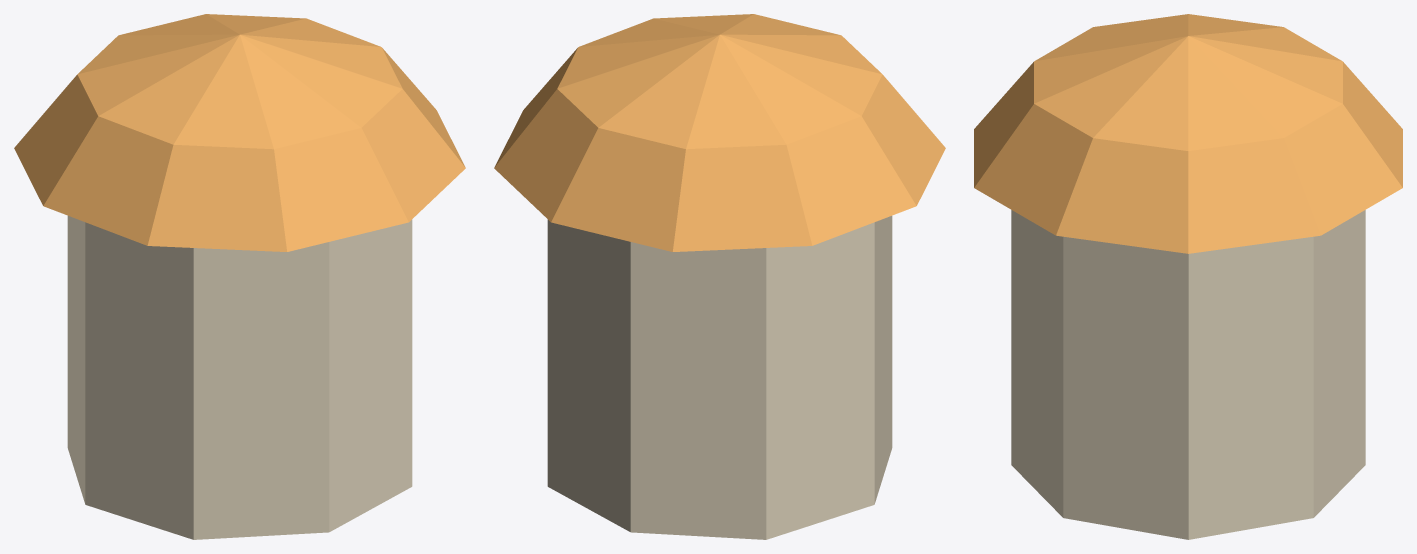
Rendered from drop_bolete_mushroom.glb.
The picture shows the model from 3 angles, left to right: view 1: azimuth 30°, elevation 25°; view 2: azimuth 150°, elevation 25°; view 3: azimuth 270°, elevation 25°; orthographic projection.
Parts seen in each view (by area): view 1: FTF_Nature_Mushroom_Bolete_Pickup_StaticMesh; view 2: FTF_Nature_Mushroom_Bolete_Pickup_StaticMesh; view 3: FTF_Nature_Mushroom_Bolete_Pickup_StaticMesh.
Boxes of the visible parts, x1,y1,x2,y2 form: FTF_Nature_Mushroom_Bolete_Pickup_StaticMesh: (14, 14, 465, 539); FTF_Nature_Mushroom_Bolete_Pickup_StaticMesh: (494, 14, 945, 539); FTF_Nature_Mushroom_Bolete_Pickup_StaticMesh: (974, 14, 1402, 539).
Bounding box in the file's own units: 0.56 × 0.588 × 0.5326.
